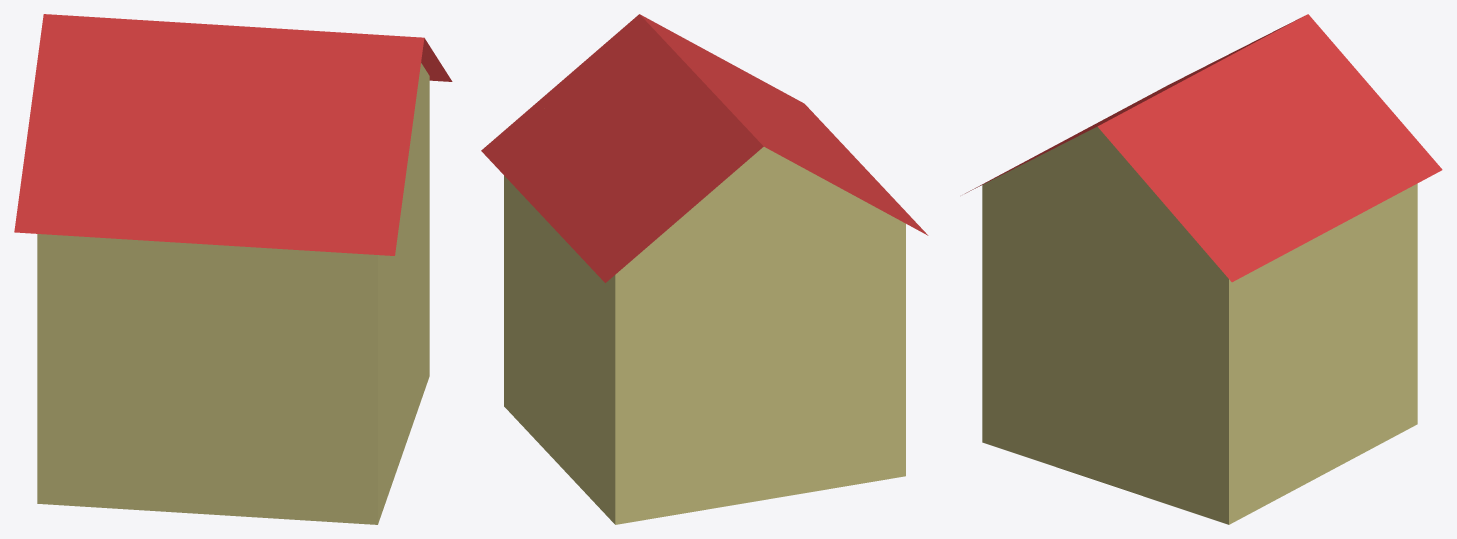
The picture shows the model from 3 angles, left to right: view 1: azimuth 30°, elevation 25°; view 2: azimuth 150°, elevation 25°; view 3: azimuth 270°, elevation 25°; orthographic projection. The views are drawn at different scales.
Size of the model in its own units: 13.55 by 13.6 by 11.25.
